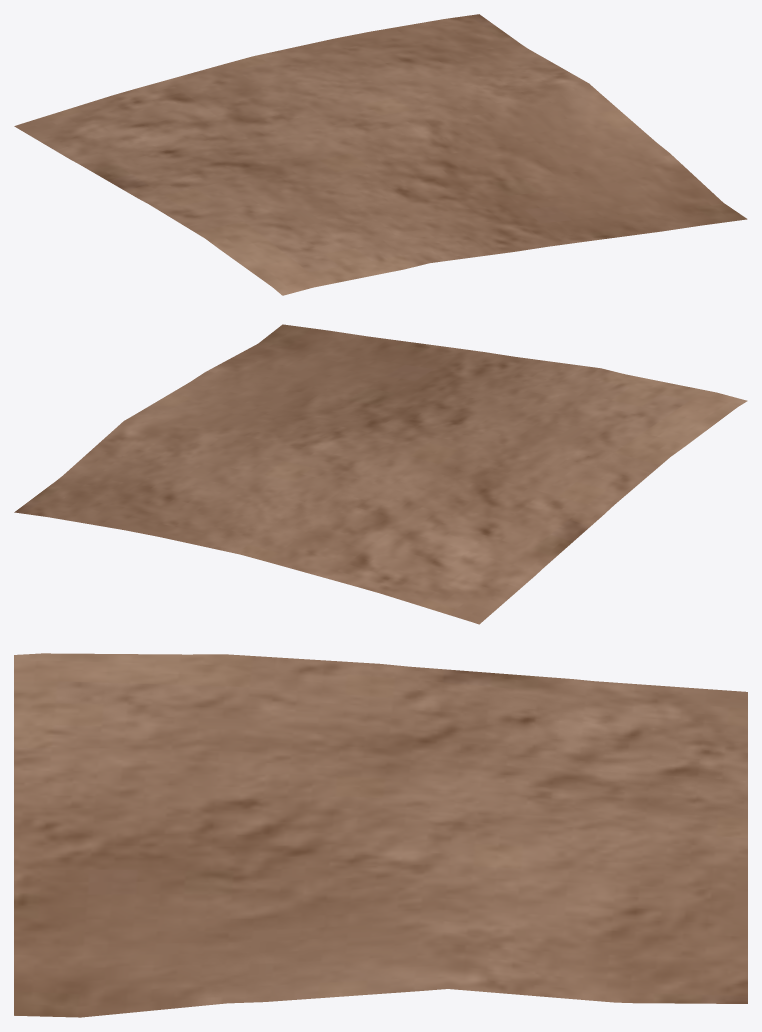
The picture shows the model from 3 angles, top to bottom: view 1: azimuth 30°, elevation 25°; view 2: azimuth 150°, elevation 25°; view 3: azimuth 270°, elevation 25°; orthographic projection. The views are drawn at different scales.
Size of the model in its own units: 64 by 5.3 by 64.
Materials: 1 (1 with a texture image).
